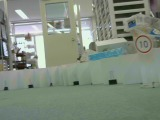speed_10: (134, 34, 152, 54)
